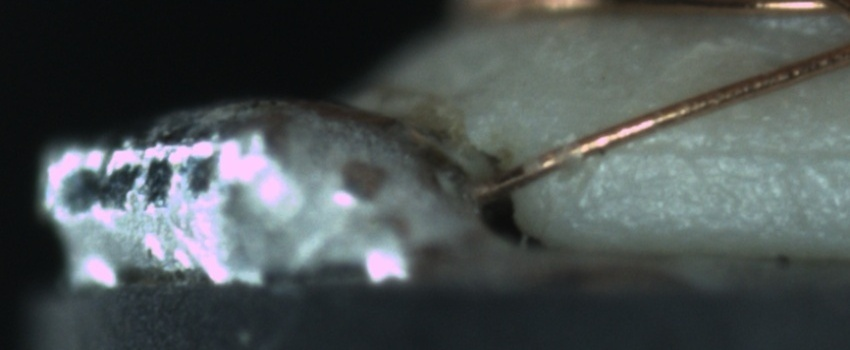DL: (620, 122, 850, 181)
